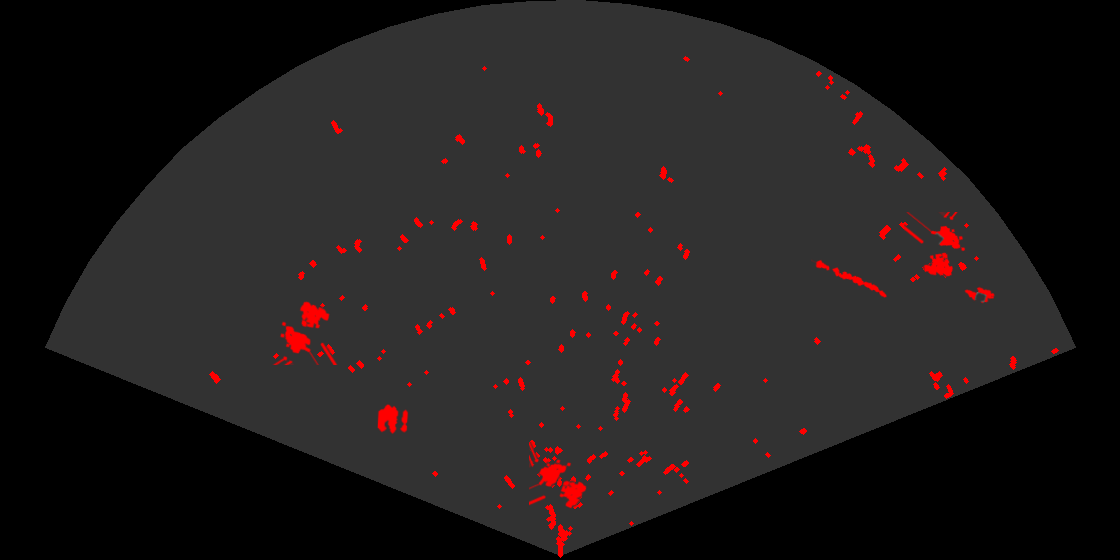AUV: (963, 285, 996, 305)
ball: (376, 403, 410, 436)
cage: (271, 300, 339, 365), (904, 212, 967, 278), (529, 442, 588, 510)
chain: (811, 258, 889, 299)
